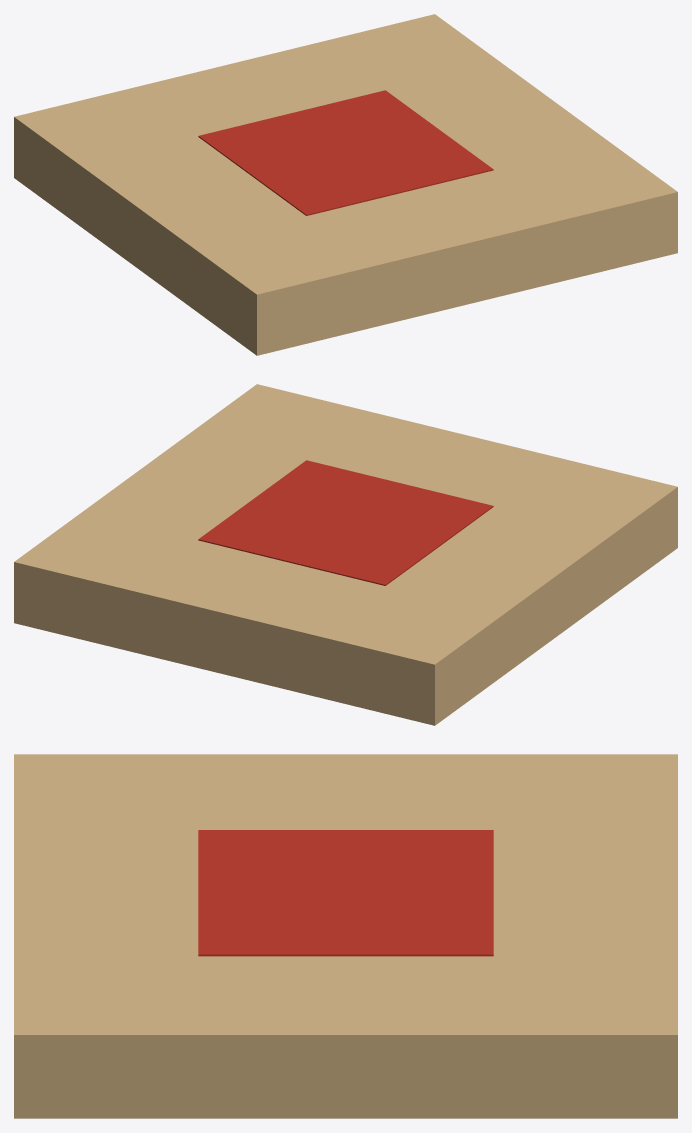
File: pizza_box.glb
3 views of the same model, one above another, from view 1: azimuth 30°, elevation 25°; view 2: azimuth 150°, elevation 25°; view 3: azimuth 270°, elevation 25° (orthographic). The views are drawn at different scales.
Visible parts, largest first — view 1: pizza_box; view 2: pizza_box; view 3: pizza_box.
Part boxes in pixels (box(x1,y1,x2,y2)): pizza_box: box(14, 14, 677, 355); pizza_box: box(14, 384, 677, 725); pizza_box: box(14, 754, 677, 1118).
Size of the model in its own units: 0.36 by 0.0515 by 0.36.
